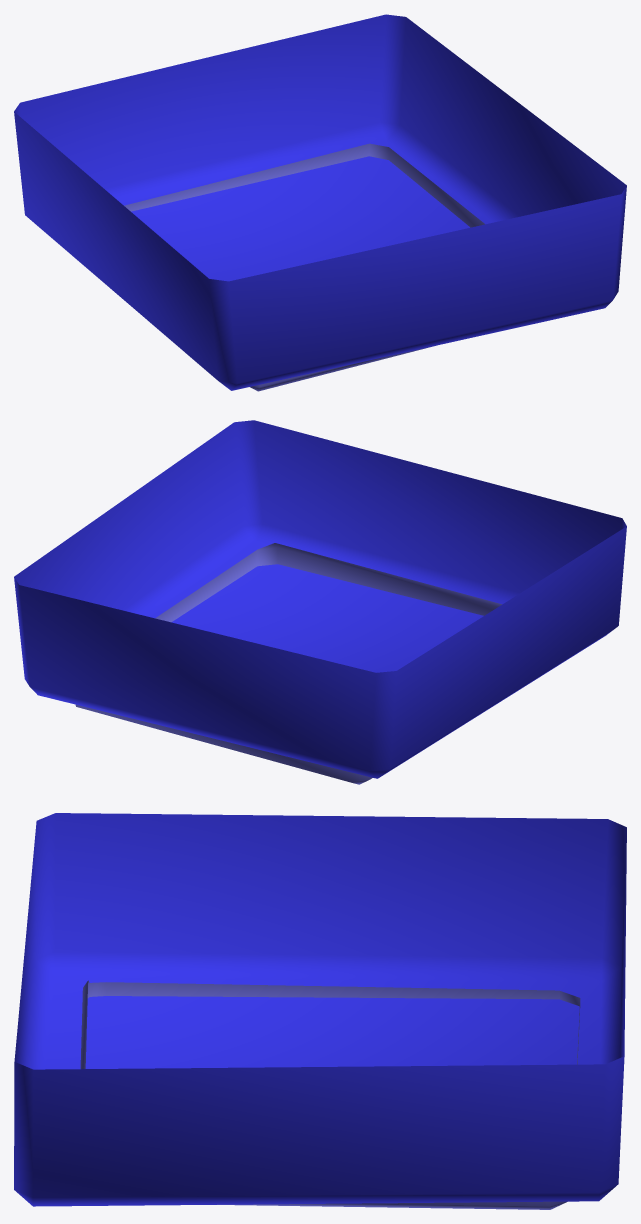
Rendered from BathroomLamp.FBX.
The picture shows the model from 3 angles, top to bottom: view 1: azimuth 30°, elevation 25°; view 2: azimuth 150°, elevation 25°; view 3: azimuth 270°, elevation 25°; orthographic projection. The views are drawn at different scales.
Visible parts, largest first — view 1: BathroomLamp; view 2: BathroomLamp; view 3: BathroomLamp.
Boxes of the visible parts, x1,y1,x2,y2 form: BathroomLamp: [14, 14, 626, 391]; BathroomLamp: [14, 420, 626, 784]; BathroomLamp: [14, 813, 626, 1209].
Size of the model in its own units: 2.6 by 0.8739 by 2.62.
